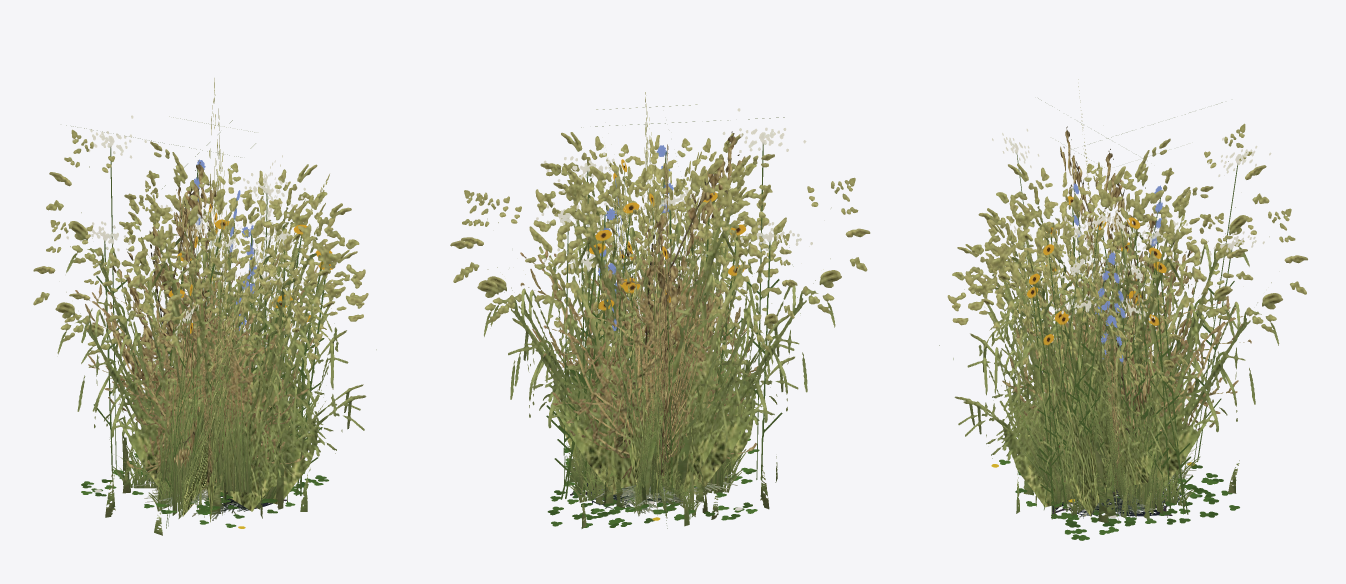
File: veg.ground.glb
The picture shows the model from 3 angles, left to right: view 1: azimuth 30°, elevation 25°; view 2: azimuth 150°, elevation 25°; view 3: azimuth 270°, elevation 25°; orthographic projection. The views are drawn at different scales.
Visible parts, largest first — view 1: meadow.tall.1:lod0, meadow.tall.2:lod0, meadow.dry.1:lod0, grass.long.2:lod0, weed.seedstalk.1:lod0, flower.lace.1:lod0, grass.long.1:lod0, flower.susan.1:lod0, weed.clover.1:lod0, grass.lawn.2:lod0, grass.lawn.3:lod0, grass.lawn.1:lod0 (+1 smaller); view 2: meadow.tall.1:lod0, meadow.tall.2:lod0, meadow.dry.1:lod0, weed.seedstalk.1:lod0, flower.lace.1:lod0, flower.susan.1:lod0, grass.long.2:lod0, grass.lawn.3:lod0, weed.clover.1:lod0, grass.long.1:lod0, grass.lawn.2:lod0, weed.groundcover.1:lod0 (+1 smaller); view 3: meadow.tall.1:lod0, meadow.tall.2:lod0, flower.lace.1:lod0, meadow.dry.1:lod0, flower.susan.1:lod0, grass.long.1:lod0, weed.seedstalk.1:lod0, weed.clover.1:lod0, grass.lawn.1:lod0, grass.lawn.2:lod0, grass.lawn.3:lod0, grass.long.2:lod0 (+1 smaller).
Boxes of the visible parts, <box> form: meadow.tall.1:lod0: <box>33,78,366,522</box>; meadow.tall.2:lod0: <box>64,174,376,516</box>; meadow.dry.1:lod0: <box>75,235,320,485</box>; grass.long.2:lod0: <box>153,328,267,503</box>; weed.seedstalk.1:lod0: <box>66,120,240,468</box>; flower.lace.1:lod0: <box>66,115,312,528</box>; grass.long.1:lod0: <box>119,375,325,515</box>; flower.susan.1:lod0: <box>156,203,332,509</box>; weed.clover.1:lod0: <box>81,453,328,528</box>; grass.lawn.2:lod0: <box>105,433,223,518</box>; grass.lawn.3:lod0: <box>112,452,291,535</box>; grass.lawn.1:lod0: <box>148,468,310,518</box>; meadow.tall.1:lod0: <box>450,92,870,502</box>; meadow.tall.2:lod0: <box>461,151,800,491</box>; meadow.dry.1:lod0: <box>520,225,758,484</box>; weed.seedstalk.1:lod0: <box>581,117,784,495</box>; flower.lace.1:lod0: <box>536,104,812,528</box>; flower.susan.1:lod0: <box>554,159,745,501</box>; grass.long.2:lod0: <box>582,315,734,513</box>; grass.lawn.3:lod0: <box>568,456,777,528</box>; weed.clover.1:lod0: <box>547,438,759,527</box>; grass.long.1:lod0: <box>569,342,739,519</box>; grass.lawn.2:lod0: <box>566,444,769,526</box>; weed.groundcover.1:lod0: <box>570,473,737,513</box>; meadow.tall.1:lod0: <box>953,79,1307,519</box>; meadow.tall.2:lod0: <box>939,162,1253,516</box>; flower.lace.1:lod0: <box>992,129,1271,517</box>; meadow.dry.1:lod0: <box>1002,238,1251,488</box>; flower.susan.1:lod0: <box>1027,196,1193,519</box>; grass.long.1:lod0: <box>1005,355,1161,513</box>; weed.seedstalk.1:lod0: <box>1038,98,1222,454</box>; weed.clover.1:lod0: <box>991,459,1239,540</box>; grass.lawn.1:lod0: <box>1016,444,1202,520</box>; grass.lawn.2:lod0: <box>1047,418,1184,523</box>; grass.lawn.3:lod0: <box>1067,459,1239,515</box>; grass.long.2:lod0: <box>1037,329,1184,515</box>.
Size of what is drawn, in the model's own units: 0.8247 by 0.7567 by 0.7321.
Materials: 1 (1 with a texture image).
